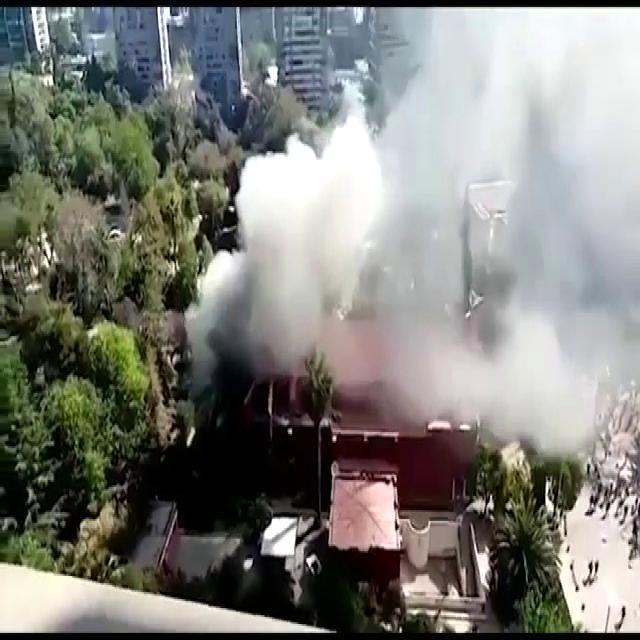Smoke: (188, 0, 632, 454)
